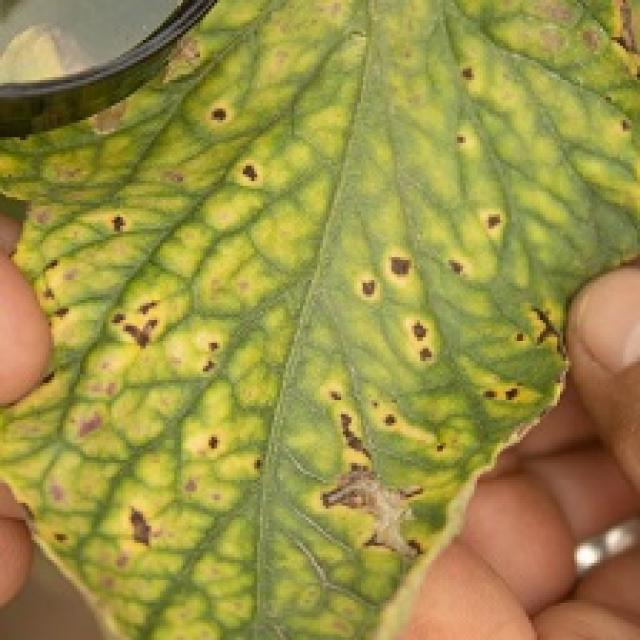Tuta absoluta: (321, 462, 430, 558)
